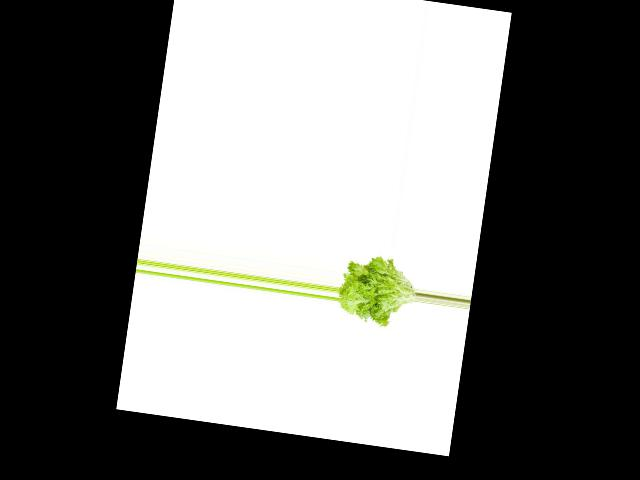lettuce: (335, 248, 422, 331)
